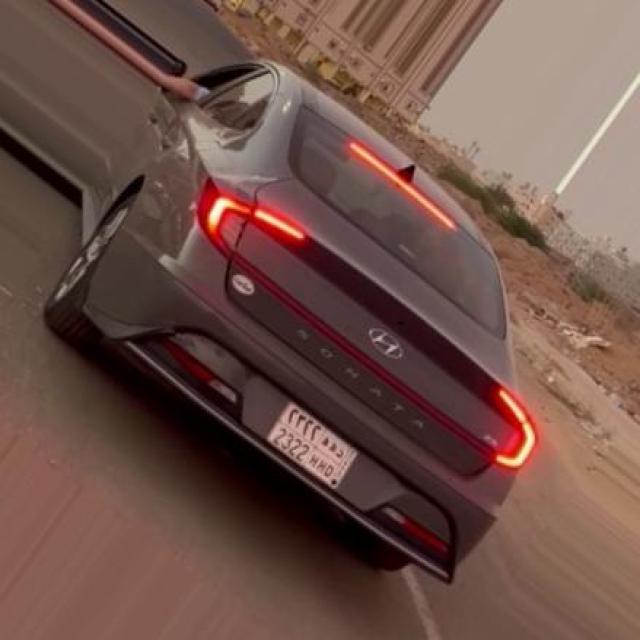Car-plate: (261, 396, 362, 498)
